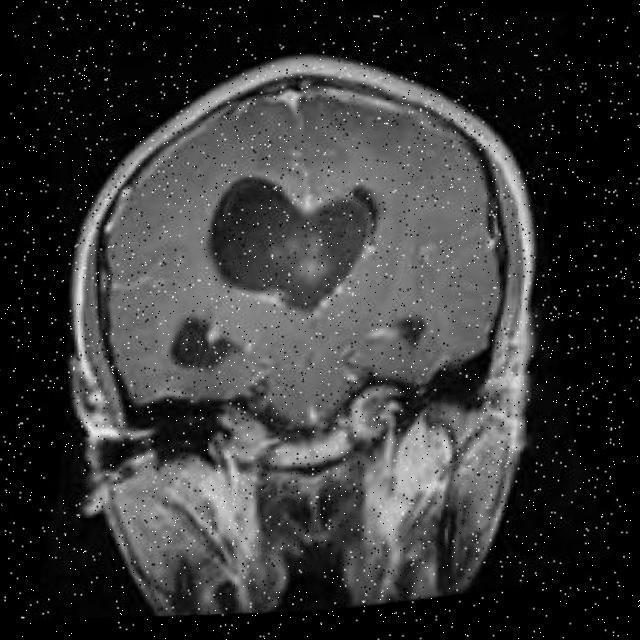EMCI: (248, 183, 397, 337)
